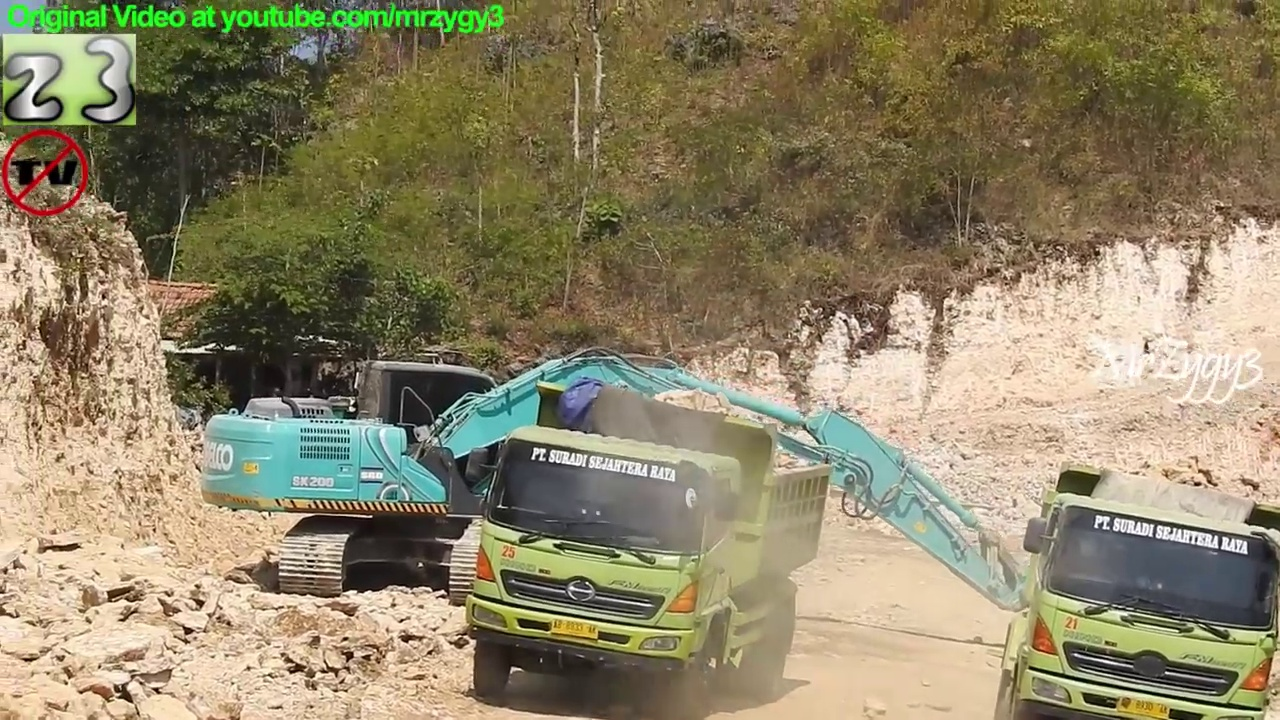excavator: (193, 341, 1157, 636)
truck: (461, 375, 842, 720), (986, 461, 1280, 720)
